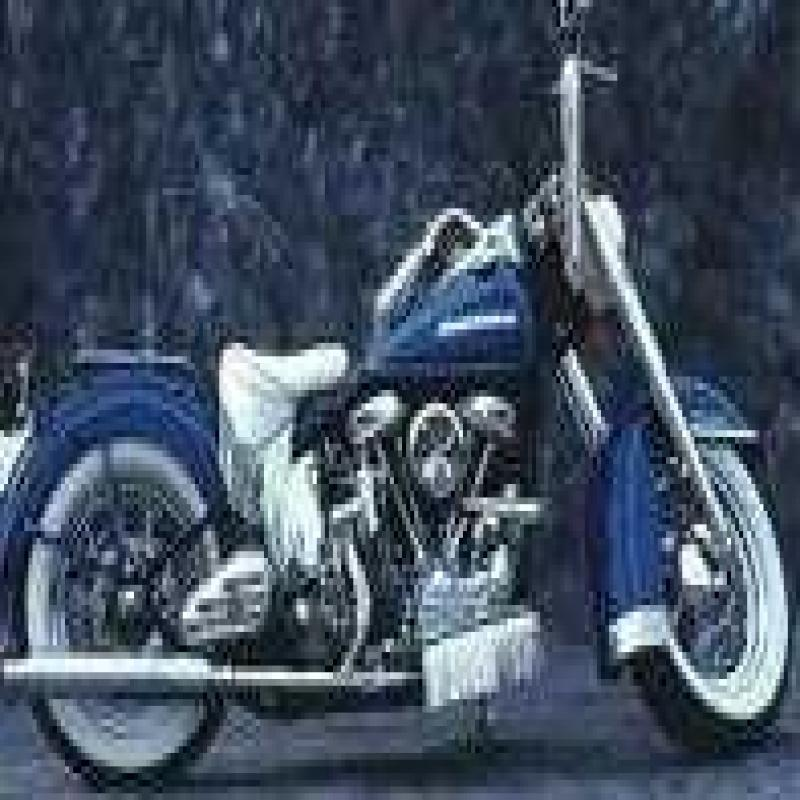bike: (16, 10, 792, 800)
